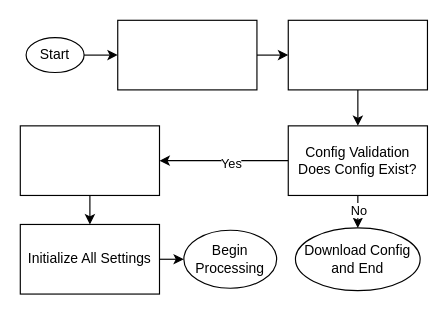
Some shapes in this 448 by 314 pixel diagram are drawn without their labels. The centre of each missing label's shape, as x and y in pixels:
"Folder Structure Validation" goes at [357,54].
"Kill all Processes used by automation" goes at [187,54].
"Transaction Log Validation" goes at [89,160].
